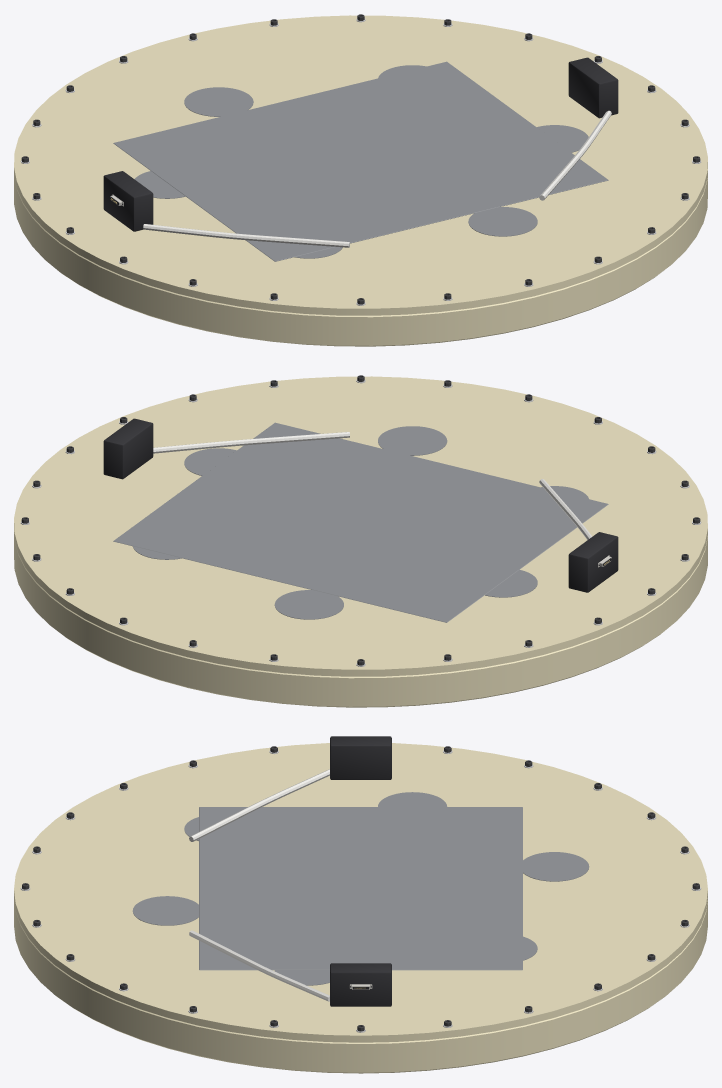
Rendered from lv_mount_plate.glb.
3 renders of one model, top to bottom at view 1: azimuth 30°, elevation 25°; view 2: azimuth 150°, elevation 25°; view 3: azimuth 270°, elevation 25°, orthographic.
Visible parts, largest first — view 1: lv_mount_plate; view 2: lv_mount_plate; view 3: lv_mount_plate.
Part boxes in pixels (x1,y1,x2,y2): lv_mount_plate: [14, 14, 707, 346]; lv_mount_plate: [14, 375, 707, 707]; lv_mount_plate: [14, 736, 707, 1073].
Size of the model in its own units: 0.9 by 0.105 by 0.9.
